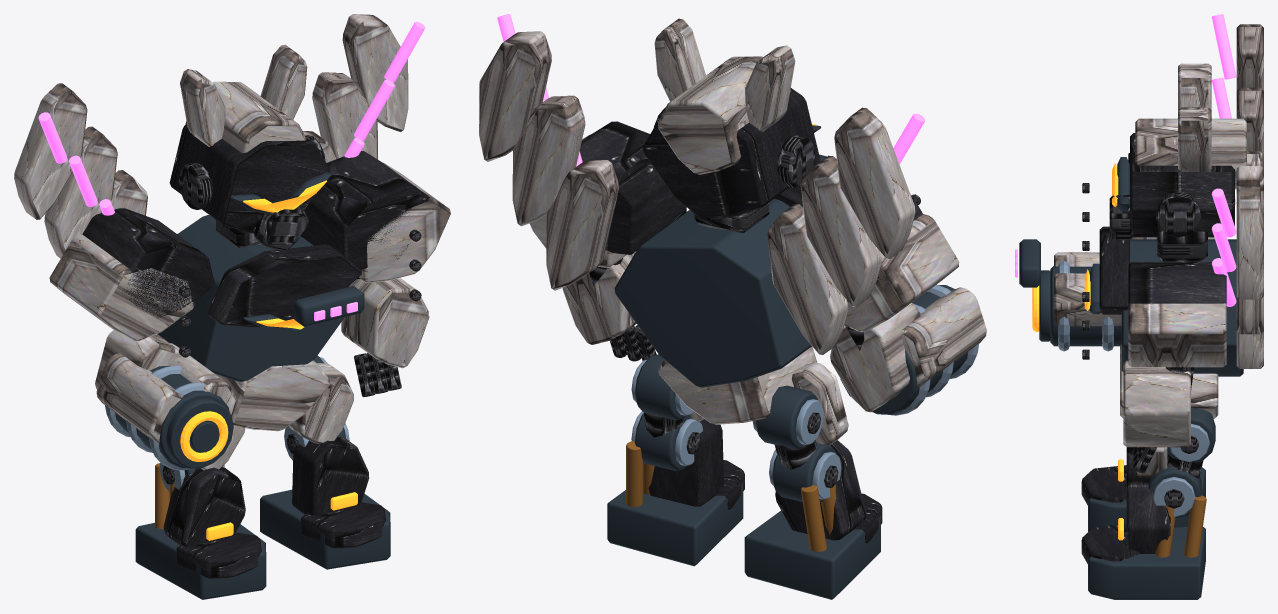
The model's file is sector_10_0.glb.
The picture shows the model from 3 angles, left to right: view 1: azimuth 30°, elevation 25°; view 2: azimuth 150°, elevation 25°; view 3: azimuth 270°, elevation 25°; orthographic projection. The views are drawn at different scales.
Visible parts, largest first — view 1: Navy crown, Cuirass yoke, Angular scout torso, Greave armor, Greave armor.001, Neck actuator, Servo housing.004, Servo housing.001, Rift filament, Tapered thigh shield.001, Recessed V optic, Bearing ring (+1 smaller); view 2: Navy crown, Angular scout torso, Cuirass yoke, Servo housing.001, Servo housing.004, Greave armor.001, Neck actuator, Greave armor, Tapered thigh shield, Bearing ring.002, Calf piston, Calf piston.002 (+5 smaller); view 3: Navy crown, Cuirass yoke, Angular scout torso, Servo housing.004, Neck actuator, Greave armor.001, Rift filament, Greave armor, Bearing ring.008, Calf piston.002, Servo housing.001, Hub.008 (+3 smaller).
Boxes of the visible parts, <box> form: Navy crown: <box>14,14,450,444</box>; Cuirass yoke: <box>82,123,429,327</box>; Angular scout torso: <box>105,172,364,468</box>; Greave armor: <box>163,467,261,578</box>; Greave armor.001: <box>292,437,385,548</box>; Neck actuator: <box>179,135,421,397</box>; Servo housing.004: <box>260,355,390,569</box>; Servo housing.001: <box>135,468,266,599</box>; Rift filament: <box>38,21,425,321</box>; Tapered thigh shield.001: <box>289,363,353,443</box>; Recessed V optic: <box>180,180,326,461</box>; Bearing ring: <box>105,365,204,470</box>; Navy crown: <box>479,18,986,424</box>; Angular scout torso: <box>614,125,968,414</box>; Cuirass yoke: <box>579,88,922,301</box>; Servo housing.001: <box>744,385,880,599</box>; Servo housing.004: <box>607,354,743,566</box>; Greave armor.001: <box>648,419,744,509</box>; Neck actuator: <box>589,107,920,361</box>; Greave armor: <box>775,440,882,543</box>; Tapered thigh shield: <box>791,362,848,445</box>; Bearing ring.002: <box>752,399,841,499</box>; Calf piston: <box>801,484,835,551</box>; Calf piston.002: <box>626,441,654,506</box>; Navy crown: <box>1054,24,1263,447</box>; Cuirass yoke: <box>1099,133,1234,314</box>; Angular scout torso: <box>1019,157,1243,376</box>; Servo housing.004: <box>1088,407,1215,599</box>; Neck actuator: <box>1082,183,1207,473</box>; Greave armor.001: <box>1081,469,1170,563</box>; Rift filament: <box>1015,14,1236,306</box>; Greave armor: <box>1081,447,1167,505</box>; Bearing ring.008: <box>1153,423,1209,516</box>; Calf piston.002: <box>1155,495,1206,557</box>; Servo housing.001: <box>1088,467,1205,531</box>; Hub.008: <box>1164,435,1203,508</box>.
Bounding box in the file's own units: 1.28 × 1.52 × 0.7345.
8 materials, 3 textured.
